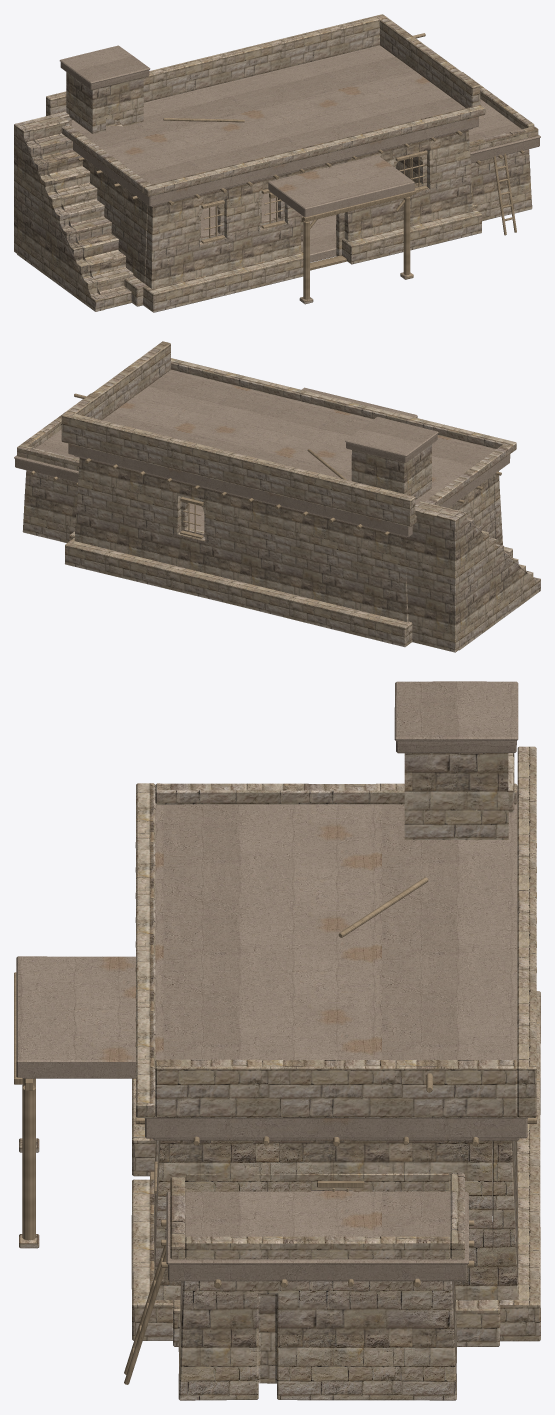
The picture shows the model from 3 angles, top to bottom: view 1: azimuth 30°, elevation 25°; view 2: azimuth 150°, elevation 25°; view 3: azimuth 270°, elevation 25°; orthographic projection. The views are drawn at different scales.
Visible parts, largest first — view 1: house; view 2: house; view 3: house.
Boxes of the visible parts, left/top/right/bottom form: house: left=14, top=14, right=540, bottom=312; house: left=14, top=341, right=540, bottom=652; house: left=14, top=681, right=540, bottom=1400.
Bounding box in the file's own units: 16.4 × 6.63 × 8.69.
Materials: 3 (3 with a texture image).
